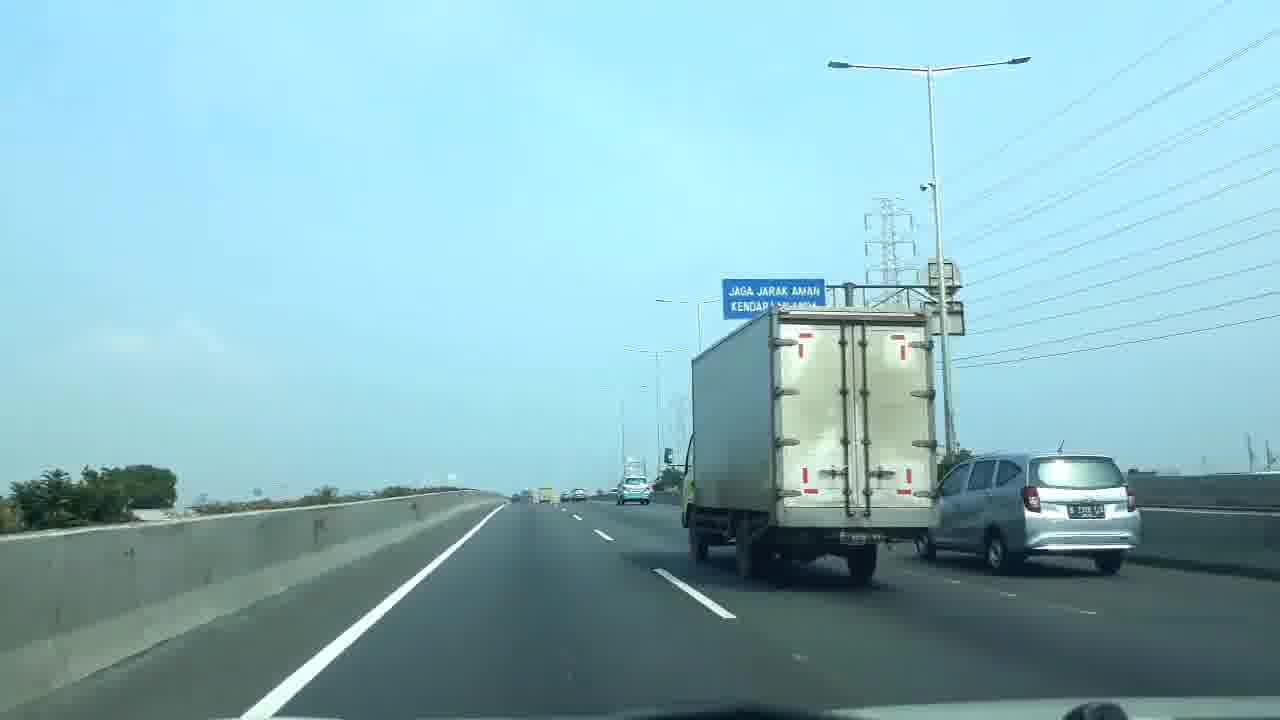plate_positive: (838, 531, 882, 546), (1068, 504, 1106, 519)
